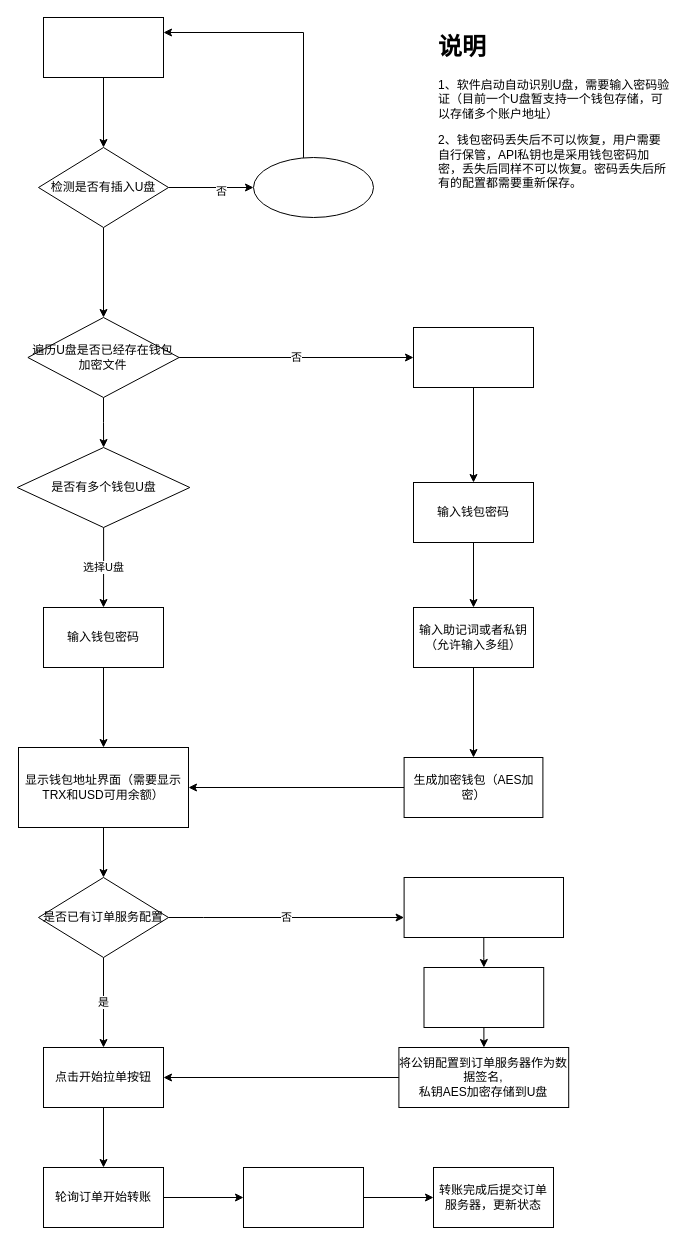
The diagram is 691 pixels wide and 1245 high, and some of its shapes have lost their labels. The shapes that lost their labels are listed below. From the top down, each one's centre as x and y in pixels, then its label:
At point (103, 47): "启动程序".
At point (313, 187): "提示未找到钱包".
At point (473, 357): "提示开始制作钱包".
At point (483, 907): "配置订单服务地址 api= appId=".
At point (483, 997): "生成公私钥".
At point (303, 1197): "按照账户优先级和余额选择采用的账户转账".
